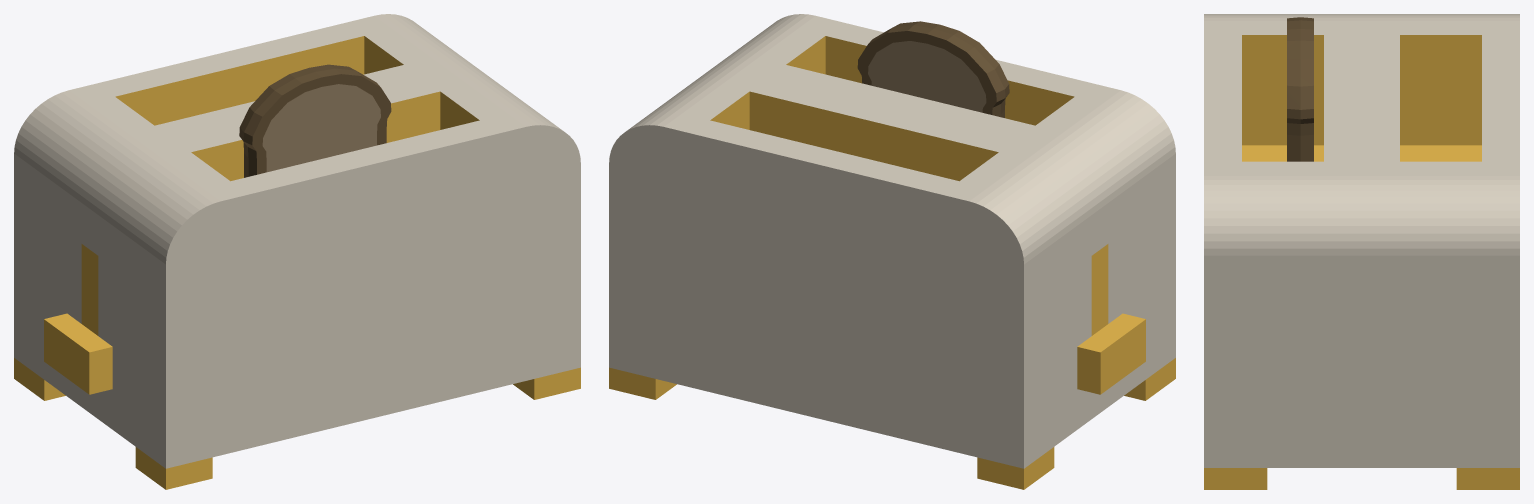
File: toaster_c.glb
The picture shows the model from 3 angles, left to right: view 1: azimuth 30°, elevation 25°; view 2: azimuth 150°, elevation 25°; view 3: azimuth 270°, elevation 25°; orthographic projection. The views are drawn at different scales.
Visible parts, largest first — view 1: body; view 2: body; view 3: body.
Part boxes in pixels (left/top/right/bottom): body: left=14, top=14, right=580, bottom=489; body: left=609, top=14, right=1175, bottom=489; body: left=1204, top=14, right=1519, bottom=489.
Size of the model in its own units: 0.3 by 0.22 by 0.18.
